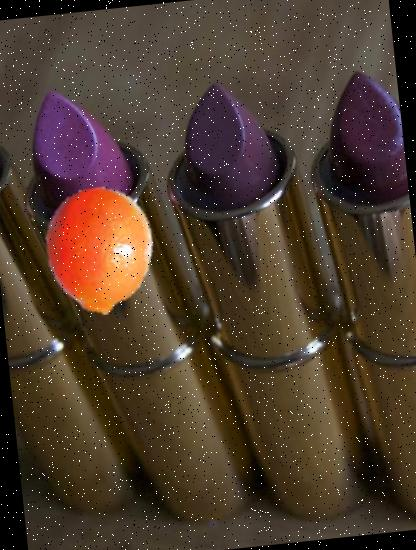Tangelo: (30, 182, 171, 321)
